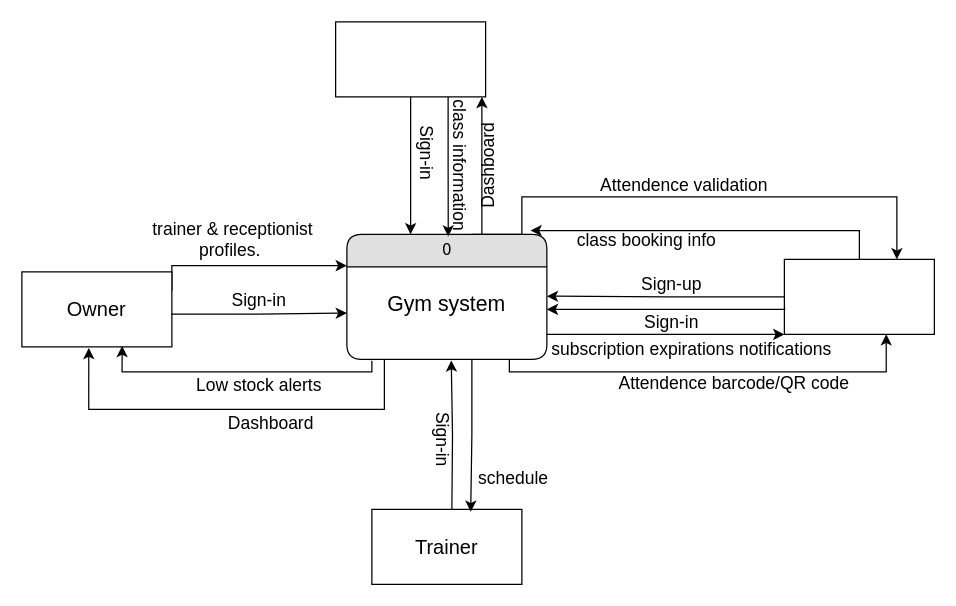
Image size: 956x606. Some labels were removed from this diagram. Here are the shapes that lost their labels. From the top down, the centre of each, then its label:
At point 410,59: "Receptionist".
At point 858,296: "Member".
